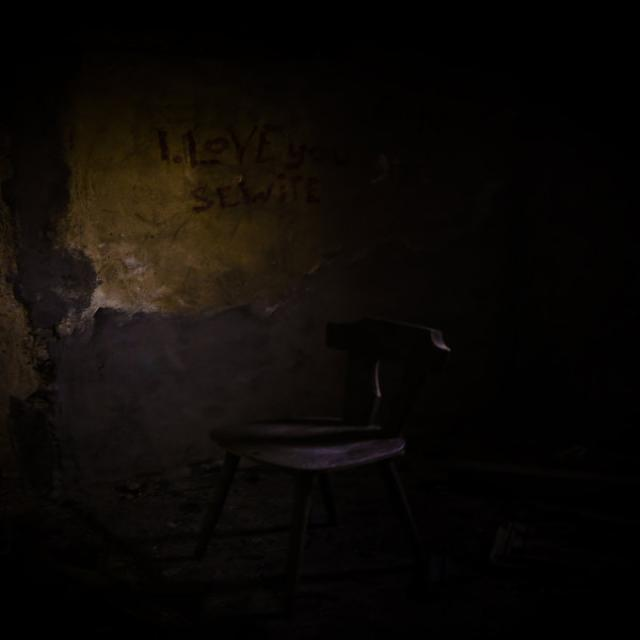chair: (144, 276, 513, 640)
